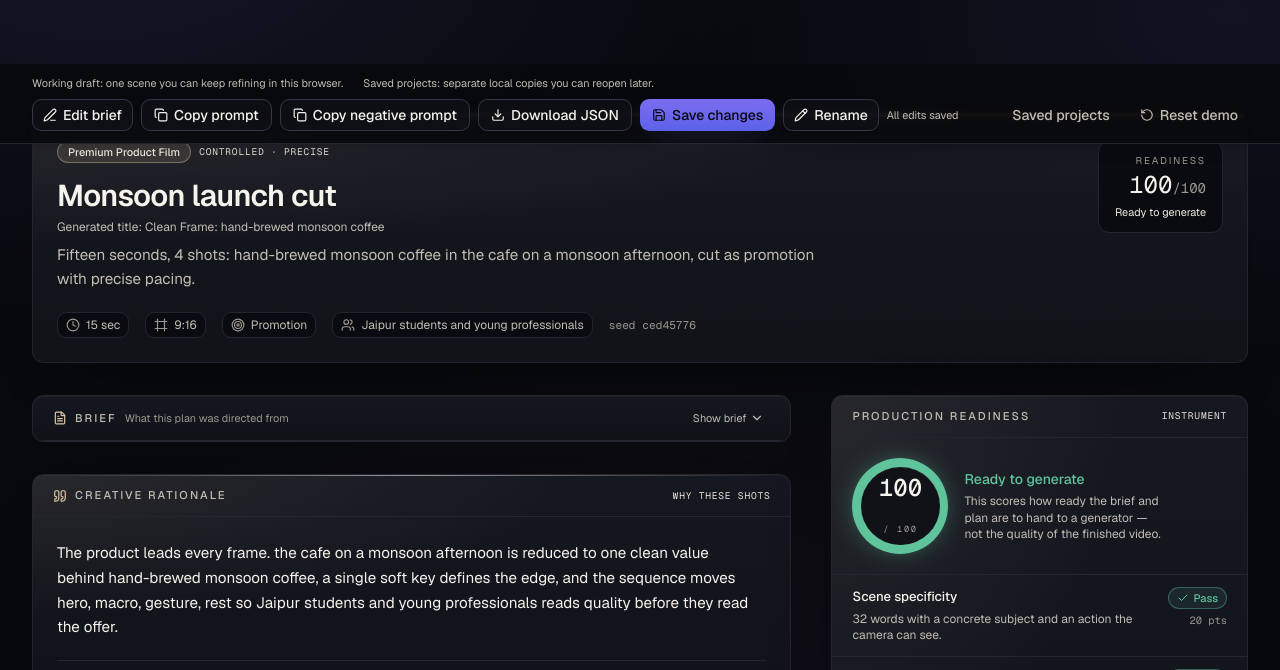
Scenario: ResultsWorkspace — saved project mode › renames from the workspace action bar
Click the button "Rename": (831, 115) [783,99,879,131]
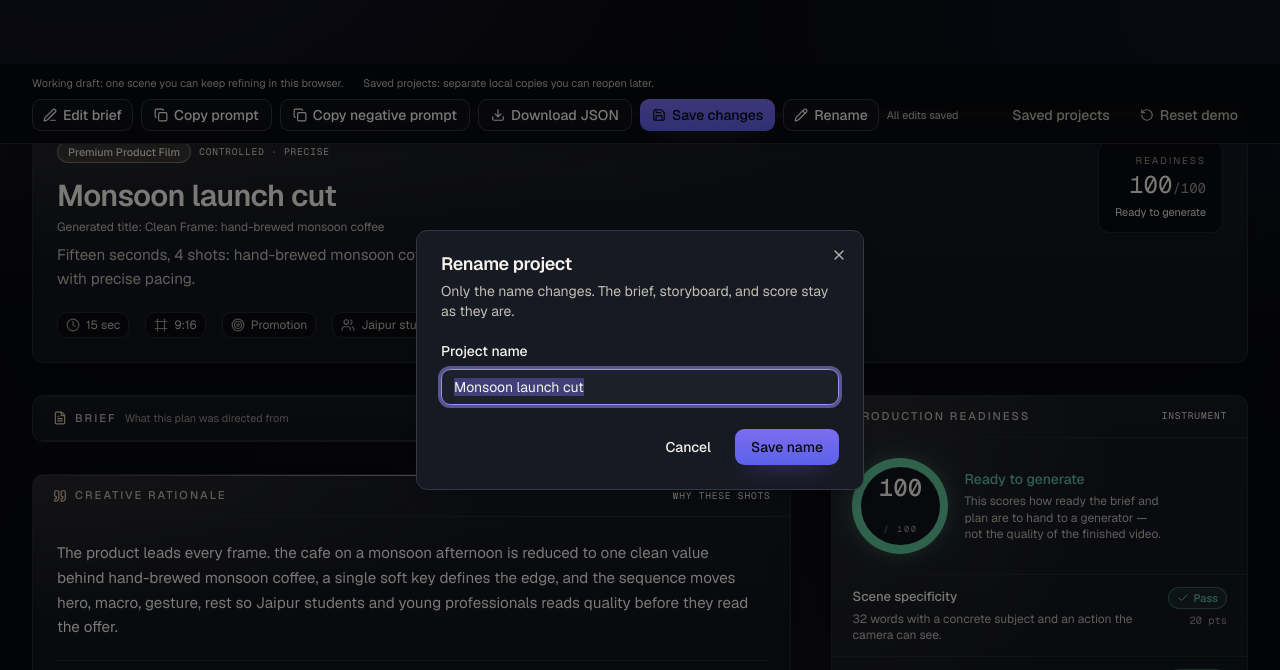
Replace the text in the field labelled "Project name" with "Monsoon teaser": (640, 387) [441,369,839,405]
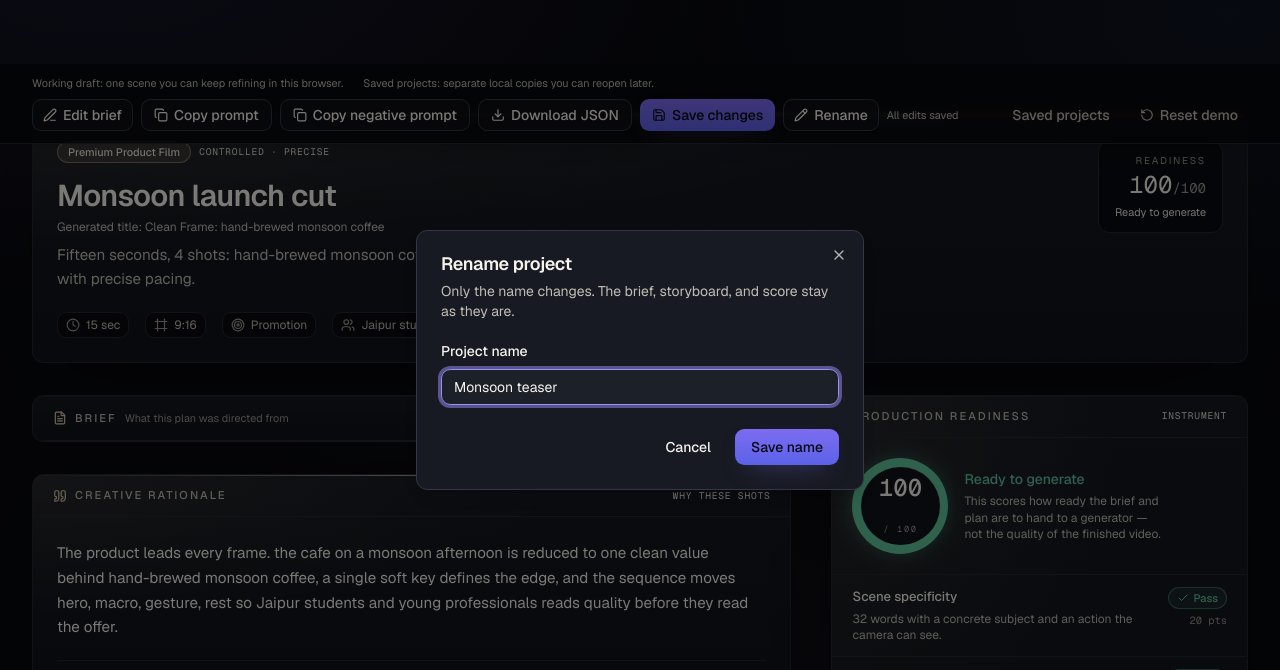
Click the button "Save name": (787, 447) [735,429,839,465]
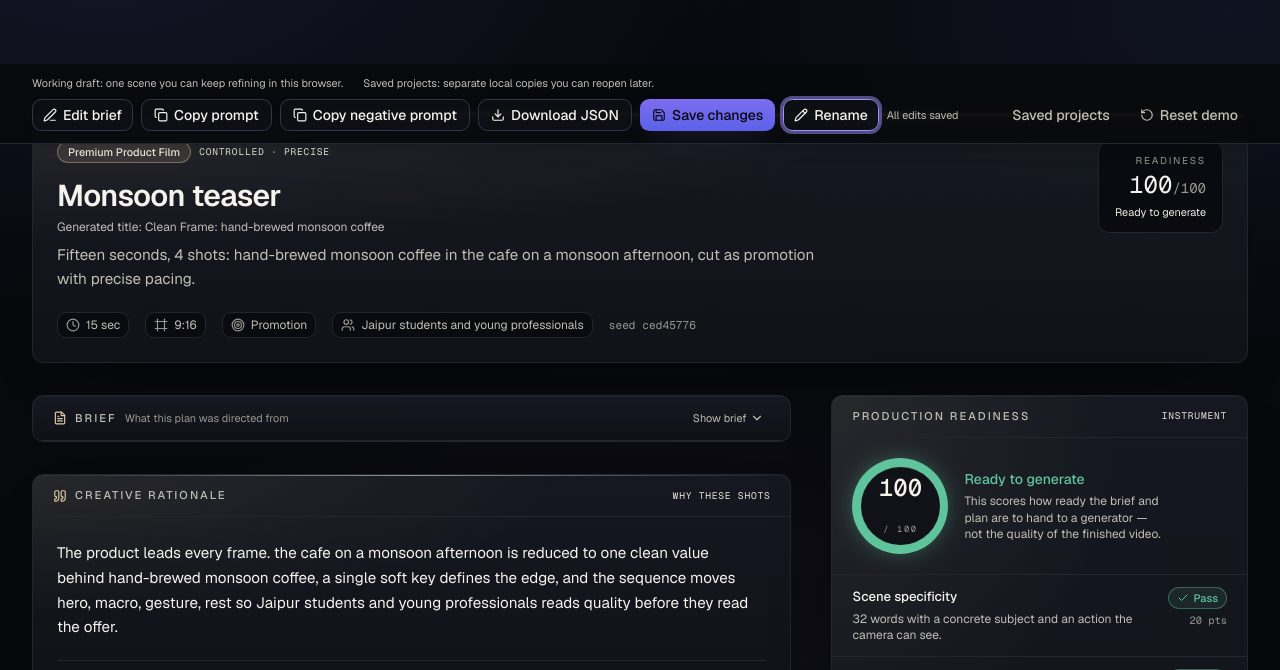
Expected: the text "Monsoon teaser" is shown, [57,176,281,215]
